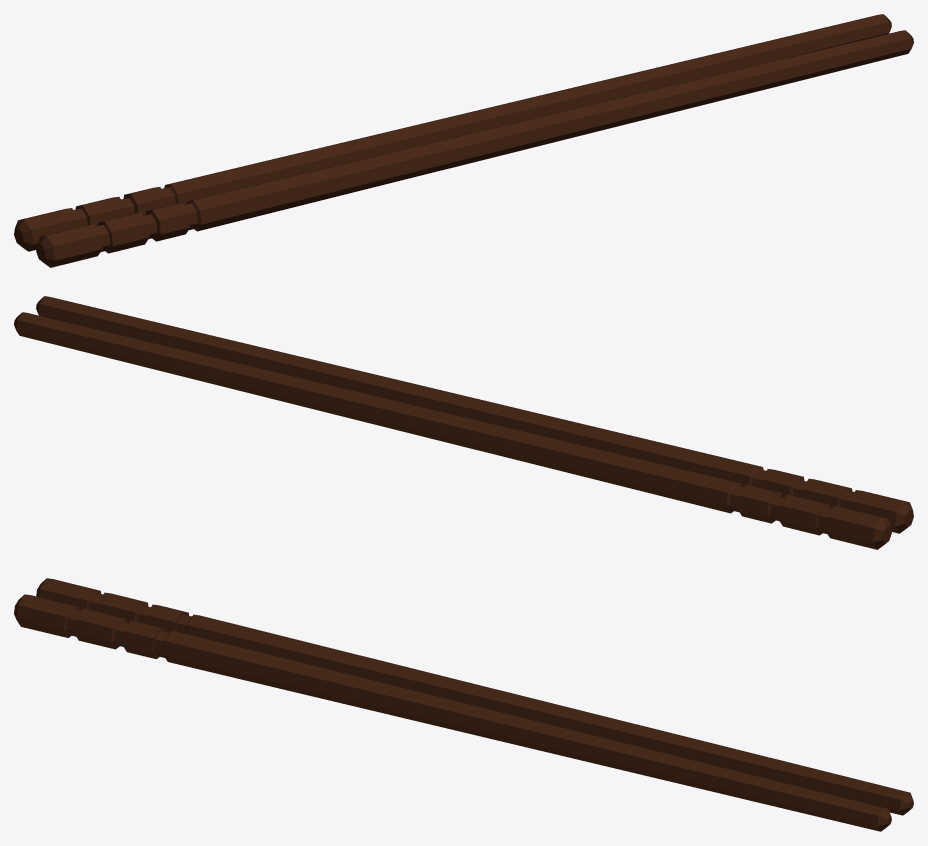
Rendered from Chopsticks.obj.
3 views of the same model, one above another, from view 1: azimuth 30°, elevation 25°; view 2: azimuth 150°, elevation 25°; view 3: azimuth 330°, elevation 25° (orthographic).
Visible parts, largest first — view 1: Chopsticks; view 2: Chopsticks; view 3: Chopsticks.
Boxes of the visible parts, x1,y1,x2,y2 form: Chopsticks: (14, 14, 913, 267); Chopsticks: (14, 296, 913, 549); Chopsticks: (14, 578, 913, 831).
Size of the model in its own units: 1.63 by 0.0532 by 0.1261.
